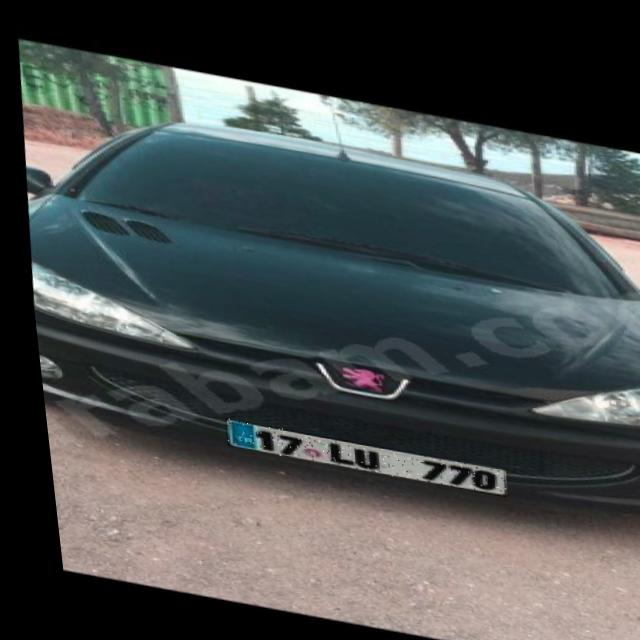license_plate: (215, 413, 498, 484)
